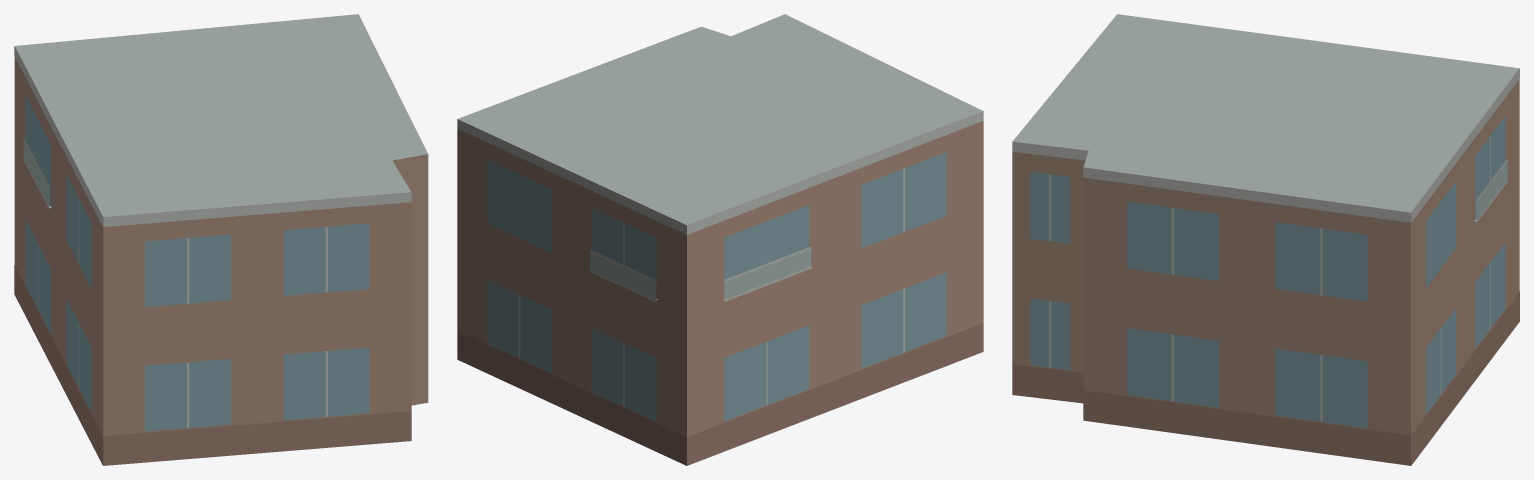
Rendered from survey-upis-33039842.glb.
The picture shows the model from 3 angles, left to right: view 1: azimuth 30°, elevation 25°; view 2: azimuth 150°, elevation 25°; view 3: azimuth 270°, elevation 25°; orthographic projection. The views are drawn at different scales.
Parts seen in each view (by area): view 1: survey-upis-33039842.tmp; view 2: survey-upis-33039842.tmp; view 3: survey-upis-33039842.tmp.
Boxes of the visible parts, bbox=[...] form: survey-upis-33039842.tmp: bbox=[14, 14, 428, 465]; survey-upis-33039842.tmp: bbox=[457, 14, 983, 465]; survey-upis-33039842.tmp: bbox=[1012, 14, 1519, 465].
Bounding box in the file's own units: 10.27 × 6.1 × 11.09.
